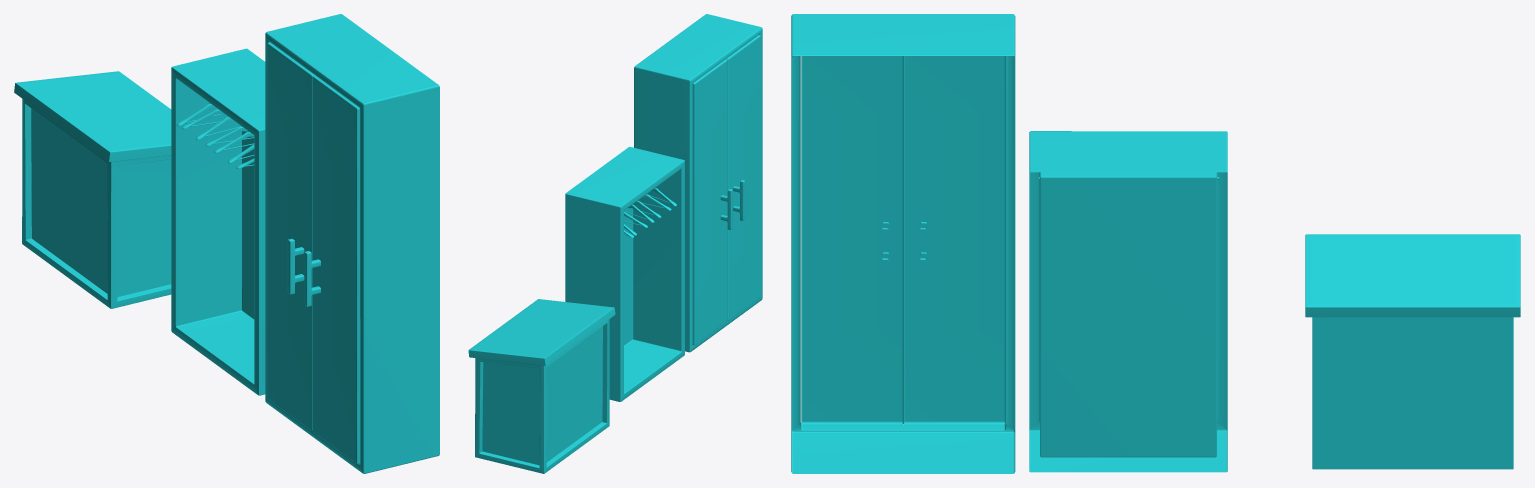
3 views of the same model, side by side, from view 1: azimuth 30°, elevation 25°; view 2: azimuth 150°, elevation 25°; view 3: azimuth 270°, elevation 25° (orthographic). The views are drawn at different scales.
Parts seen in each view (by area): view 1: Uv_006; view 2: Uv_006; view 3: Uv_006.
Part boxes in pixels (box(x1,y1,x2,y2)): Uv_006: box(14, 14, 439, 473); Uv_006: box(468, 14, 762, 473); Uv_006: box(791, 14, 1520, 473).
Size of the model in its own units: 61.28 by 207 by 326.
